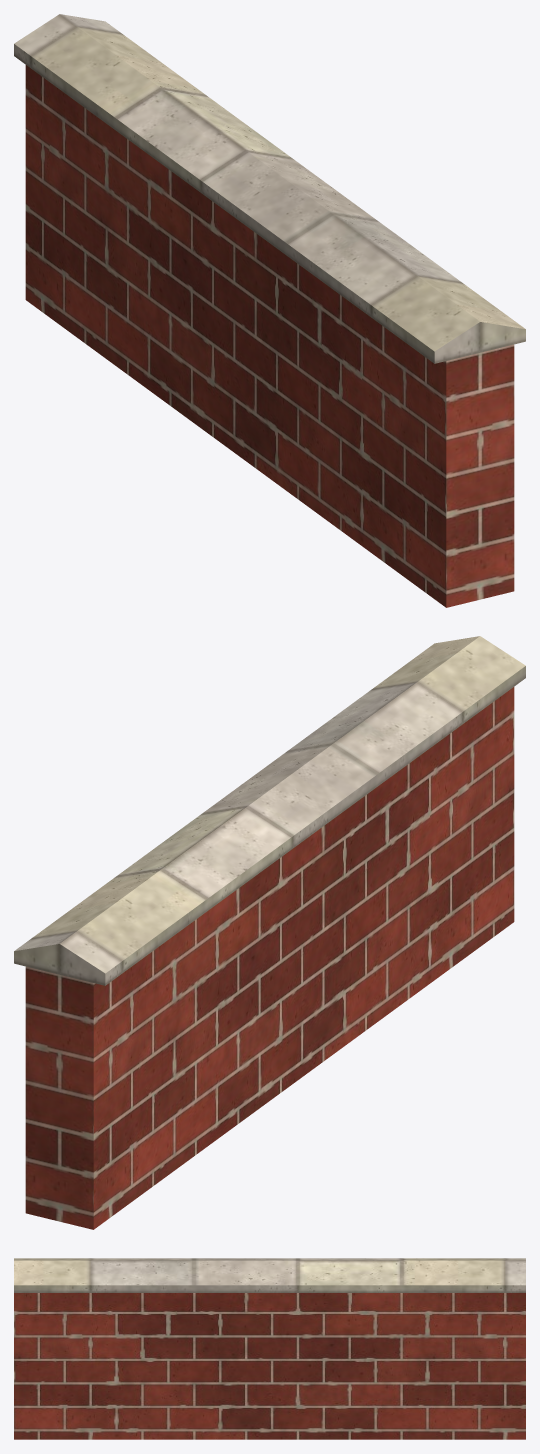
Rendered from party_front.glb.
The picture shows the model from 3 angles, top to bottom: view 1: azimuth 30°, elevation 25°; view 2: azimuth 150°, elevation 25°; view 3: azimuth 270°, elevation 25°; orthographic projection. The views are drawn at different scales.
Visible parts, largest first — view 1: party_front_brick, party_front_stone_c; view 2: party_front_brick, party_front_stone_c; view 3: party_front_brick, party_front_stone_c.
Boxes of the visible parts, bbox=[...] form: party_front_brick: bbox=[25, 65, 514, 607]; party_front_stone_c: bbox=[14, 14, 525, 363]; party_front_brick: bbox=[25, 687, 514, 1229]; party_front_stone_c: bbox=[14, 636, 525, 985]; party_front_brick: bbox=[14, 1293, 525, 1439]; party_front_stone_c: bbox=[14, 1258, 525, 1292].
Size of the model in its own units: 0.31 by 0.9 by 2.47.
2 materials, 2 textured.
